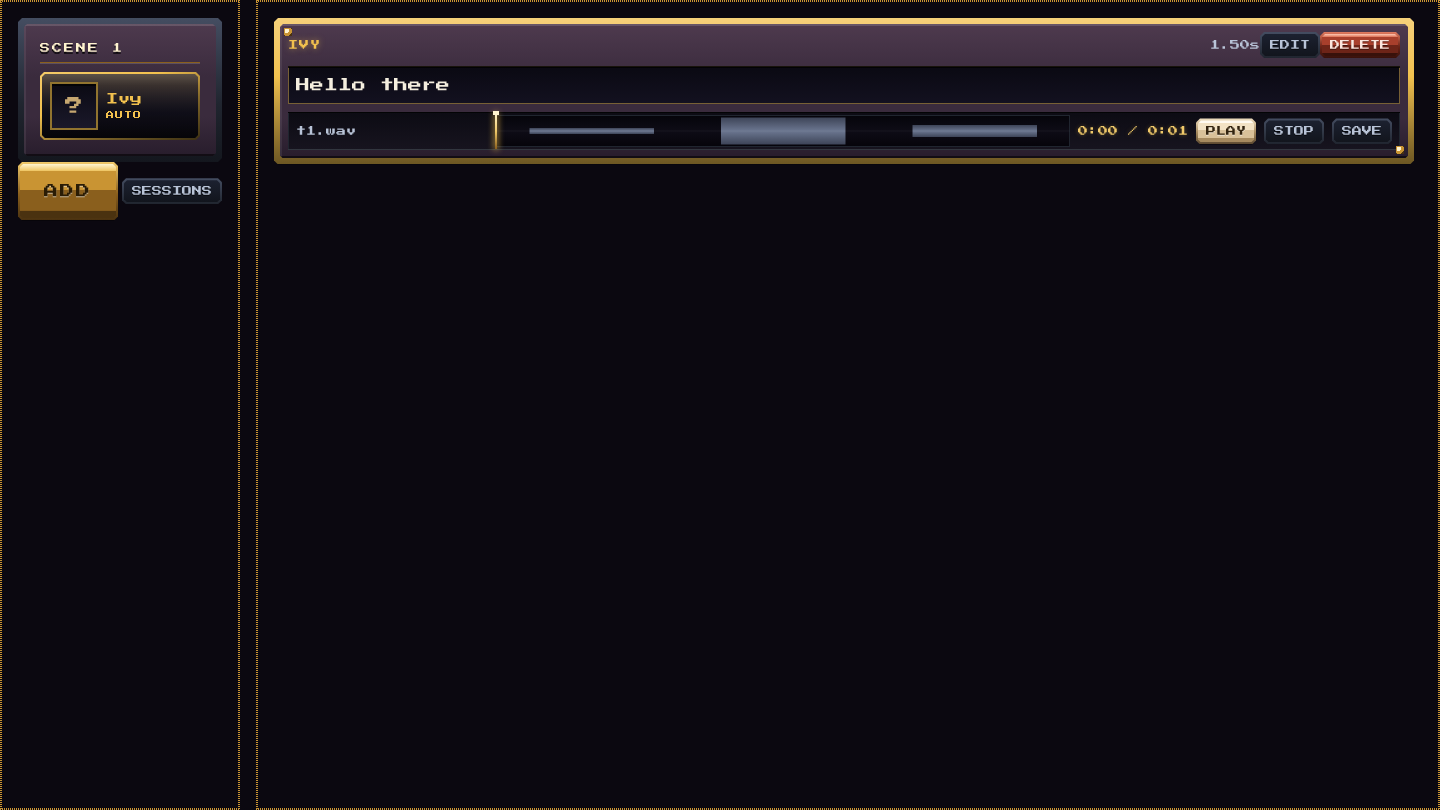
ChatScreen › reopens the editor from a turn Edit button
Click the button "Edit" at (1290, 45), box [1260,32,1320,58]
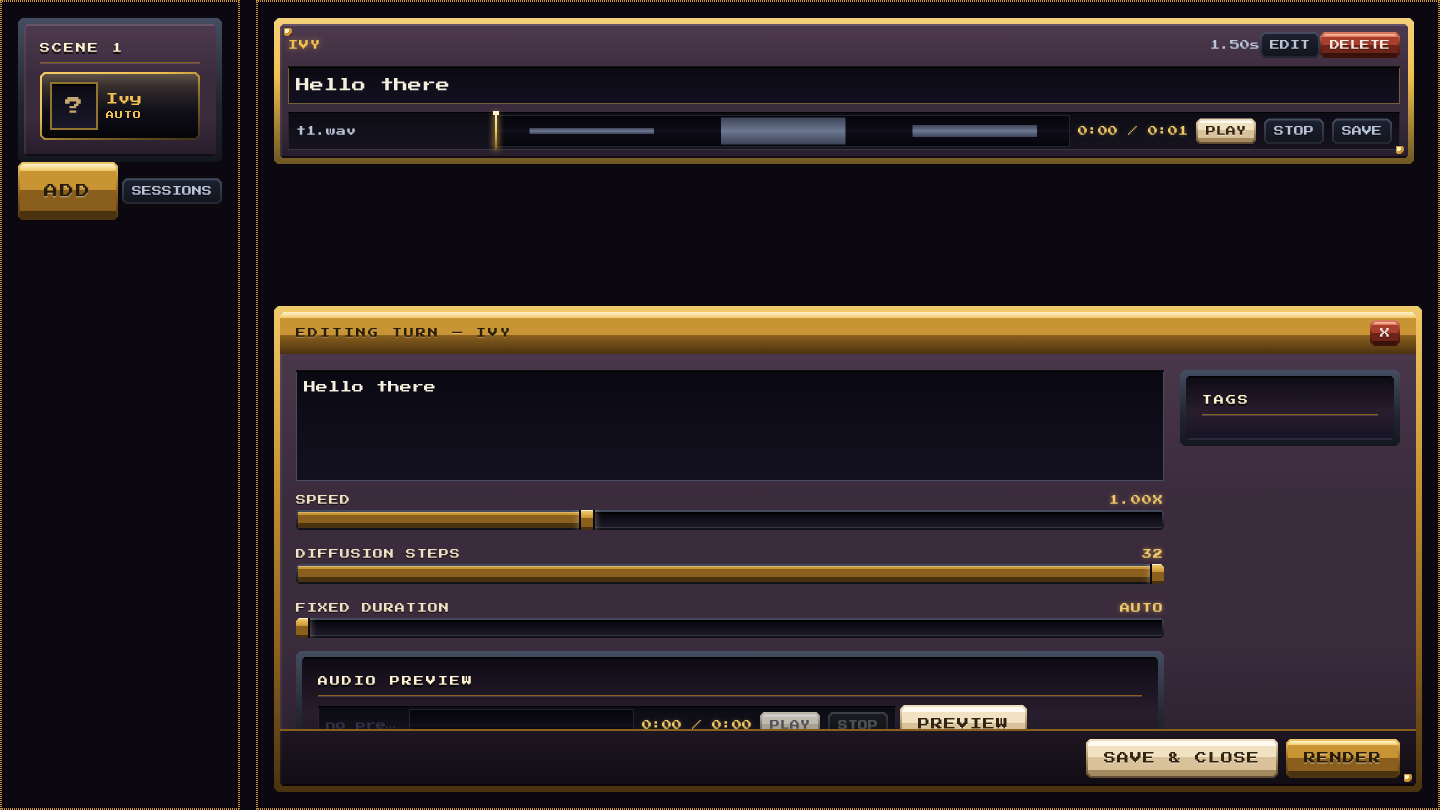
Expected: the text box named "Turn text" holds "Hello there", [296,370,1164,481]
